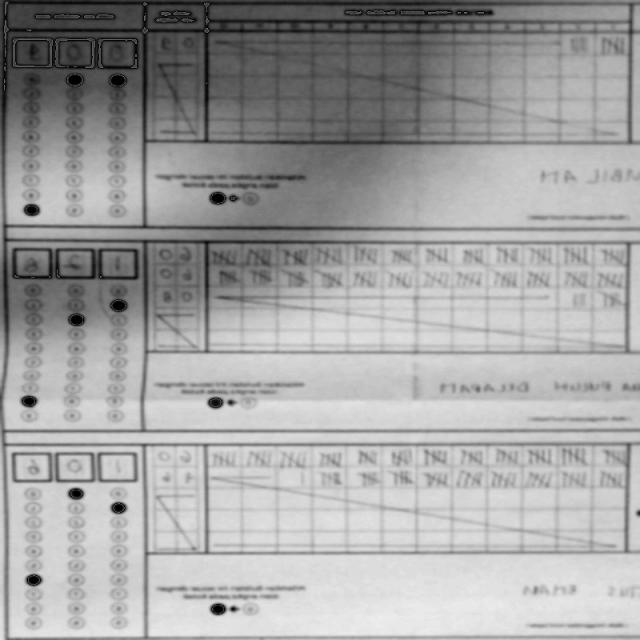Suara: (9, 241, 142, 281), (10, 30, 142, 70), (13, 446, 141, 484)
